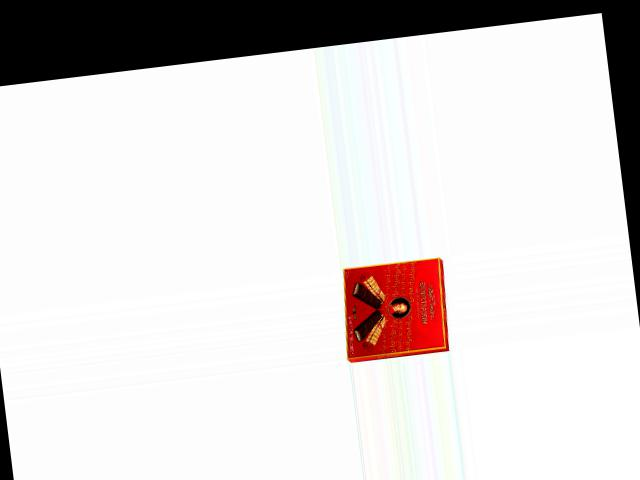chocolate: (333, 254, 451, 364)
